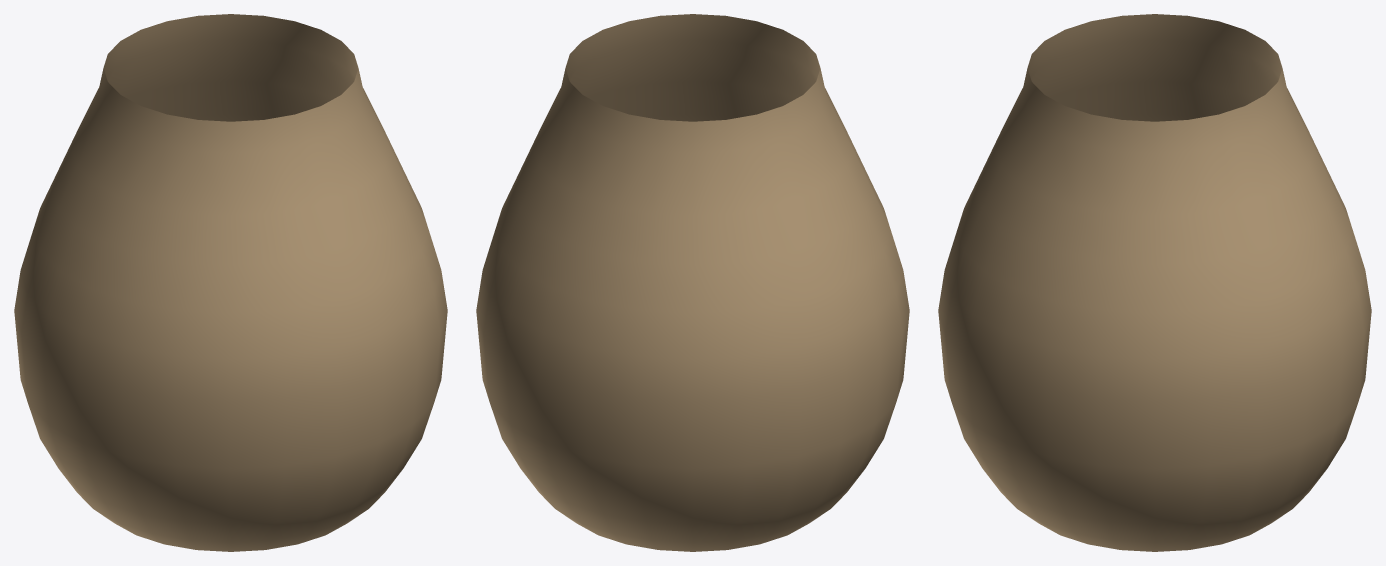
The model's file is hl_globe.glb.
3 renders of one model, left to right at view 1: azimuth 30°, elevation 25°; view 2: azimuth 150°, elevation 25°; view 3: azimuth 270°, elevation 25°, orthographic.
Visible parts, largest first — view 1: hl_globe; view 2: hl_globe; view 3: hl_globe.
Boxes of the visible parts, x1=… form: hl_globe: x1=14, y1=14, x2=447, y2=551; hl_globe: x1=476, y1=14, x2=909, y2=551; hl_globe: x1=938, y1=14, x2=1371, y2=551.
Size of the model in its own units: 0.136 by 0.148 by 0.136.
